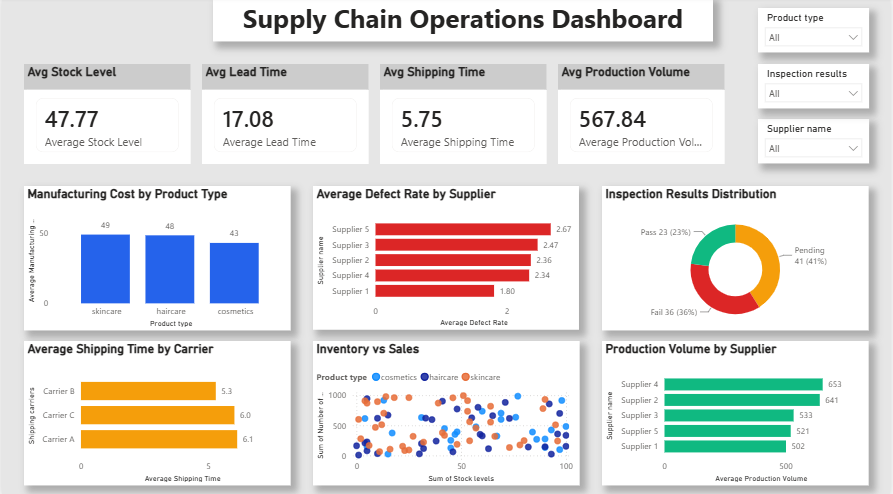

The page's visual inventory and layout, read from the dashboard file:
{"tool":"powerbi","page":{"name":"Operations & Quality","canvas":[1280,720],"ordinal":1},"visuals":[{"type":"cardVisual","title":"Avg Stock Level","fields":{"Data":["supply_chain_dataset.Average Stock Level"]},"box":[32,96,240,144],"z":0},{"type":"cardVisual","title":"Avg Lead Time","fields":{"Data":["supply_chain_dataset.Average Lead Time"]},"box":[288,96,240,144],"z":1000},{"type":"cardVisual","title":"Avg Shipping Time","fields":{"Data":["supply_chain_dataset.Average Shipping Time"]},"box":[544,96,240,144],"z":2000},{"type":"cardVisual","title":"Avg Production Volume","fields":{"Data":["supply_chain_dataset.Average Production Volume"]},"box":[800,96,240,144],"z":3000},{"type":"clusteredColumnChart","title":"Manufacturing Cost by Product Type","fields":{"Category":["supply_chain_dataset.Product type"],"Y":["supply_chain_dataset.Average Manufacturing Cost"]},"box":[32,272,384,208],"z":4000},{"type":"clusteredBarChart","title":"Average Defect Rate by Supplier","fields":{"Category":["supply_chain_dataset.Supplier name"],"Y":["supply_chain_dataset.Average Defect Rate"]},"box":[448,272,383,207],"z":5000},{"type":"donutChart","title":"Inspection Results Distribution","fields":{"Category":["supply_chain_dataset.Inspection results"],"Y":["CountNonNull(supply_chain_dataset.SKU)"]},"box":[864,272,384,208],"z":6000},{"type":"clusteredBarChart","title":"Production Volume by Supplier","fields":{"Category":["supply_chain_dataset.Supplier name"],"Y":["supply_chain_dataset.Average Production Volume"]},"box":[864,496,384,208],"z":7000},{"type":"scatterChart","title":"Inventory vs Sales","fields":{"X":["Sum(supply_chain_dataset.Stock levels)"],"Y":["Sum(supply_chain_dataset.Number of products sold)"],"Series":["supply_chain_dataset.Product type"],"Category":["supply_chain_dataset.SKU"]},"box":[448,496,384,208],"z":8000},{"type":"clusteredBarChart","title":"Average Shipping Time by Carrier","fields":{"Category":["supply_chain_dataset.Shipping carriers"],"Y":["supply_chain_dataset.Average Shipping Time"]},"box":[32,496,384,208],"z":9000},{"type":"slicer","fields":{"Values":["supply_chain_dataset.Product type"]},"box":[1088,16,160,64],"z":10000},{"type":"slicer","fields":{"Values":["supply_chain_dataset.Supplier name"]},"box":[1088,176,160,64],"z":11000},{"type":"slicer","fields":{"Values":["supply_chain_dataset.Inspection results"]},"box":[1088,96,160,64],"z":12000},{"type":"textbox","box":[304,0,720,64],"z":13000}]}

Visuals, with their boxes in screenshot pixels (x1, y1, x2, y2), scaled from the page's 1280x720 canvas onto the 893x494 screenshot:
"Avg Stock Level" cardVisual: [22,66,190,165]
"Avg Lead Time" cardVisual: [201,66,368,165]
"Avg Shipping Time" cardVisual: [380,66,547,165]
"Avg Production Volume" cardVisual: [558,66,726,165]
"Manufacturing Cost by Product Type" clusteredColumnChart: [22,187,290,329]
"Average Defect Rate by Supplier" clusteredBarChart: [313,187,580,329]
"Inspection Results Distribution" donutChart: [603,187,871,329]
"Production Volume by Supplier" clusteredBarChart: [603,340,871,483]
"Inventory vs Sales" scatterChart: [313,340,580,483]
"Average Shipping Time by Carrier" clusteredBarChart: [22,340,290,483]
slicer - supply_chain_dataset.Product type: [759,11,871,55]
slicer - supply_chain_dataset.Supplier name: [759,121,871,165]
slicer - supply_chain_dataset.Inspection results: [759,66,871,110]
textbox: [212,0,714,44]
